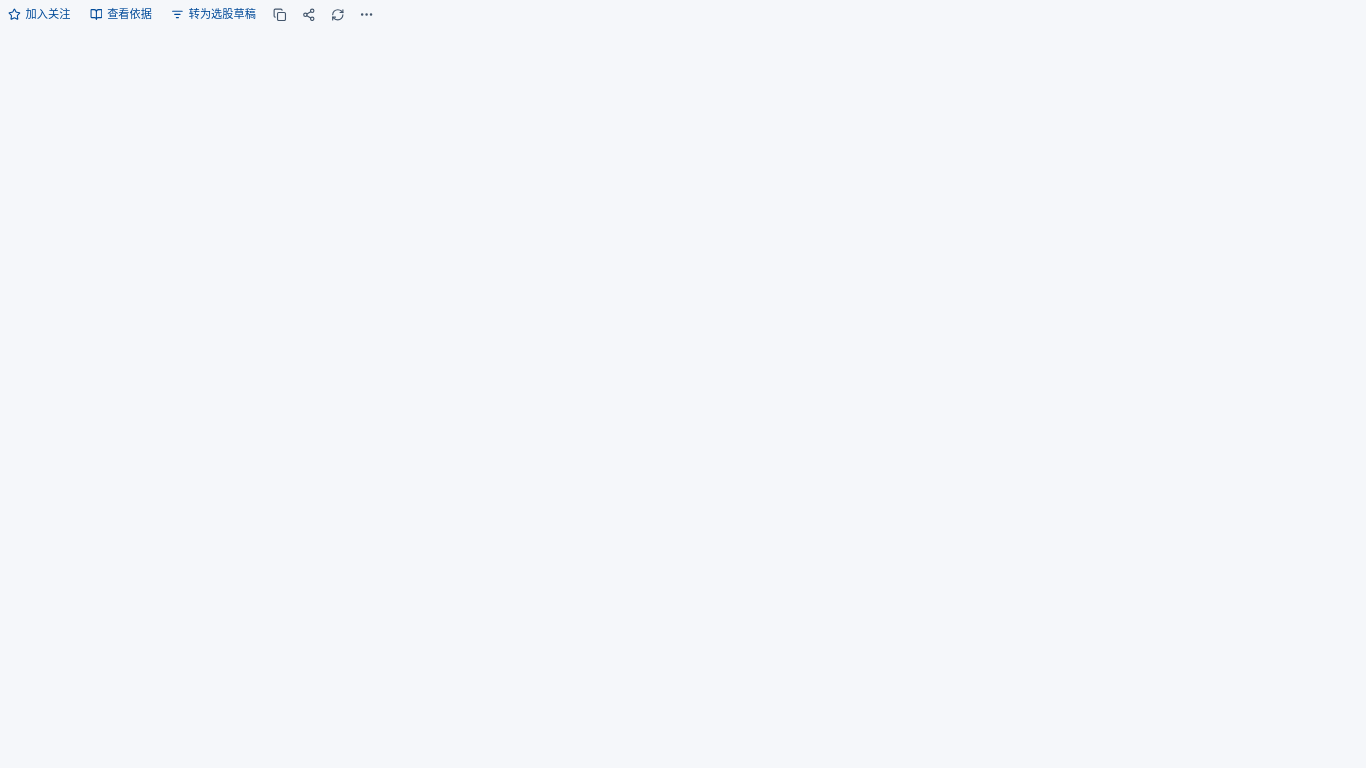
Test case: shows missing sources explicitly instead of inventing citations
Click the button named "更多回答操作" at (366, 14), box [353, 2, 379, 27]
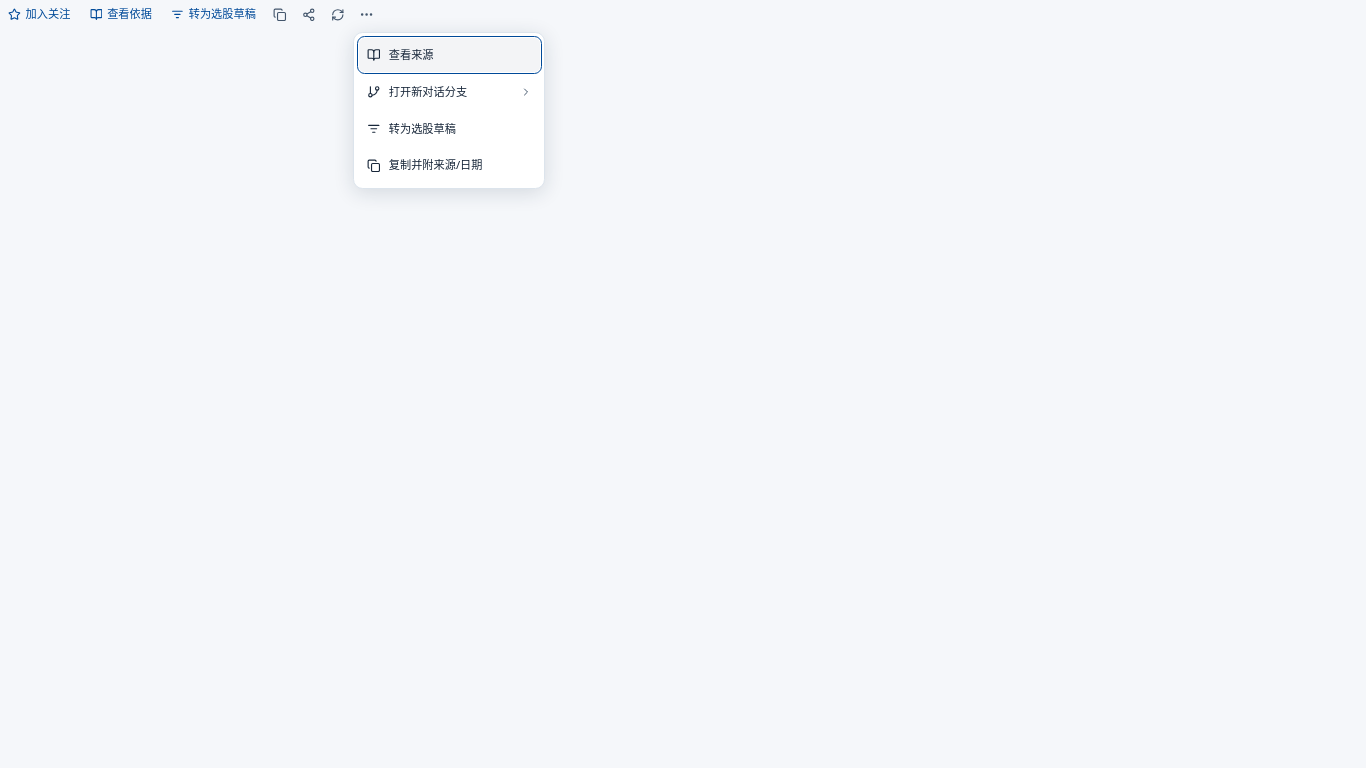
Click the menu item "查看来源" at (449, 55), box [359, 38, 540, 72]
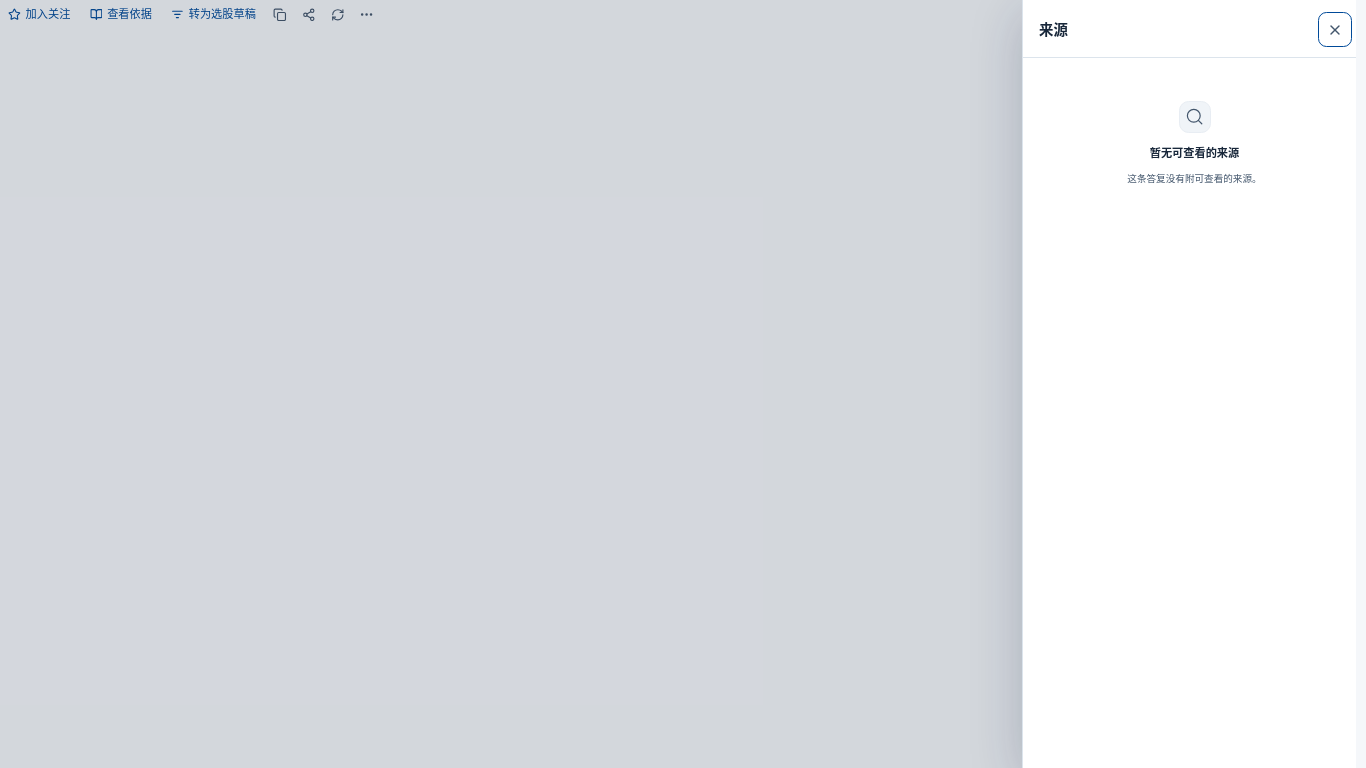
Check: the text "这条答复没有附可查看的来源。" is shown, box [1127, 170, 1262, 187]
